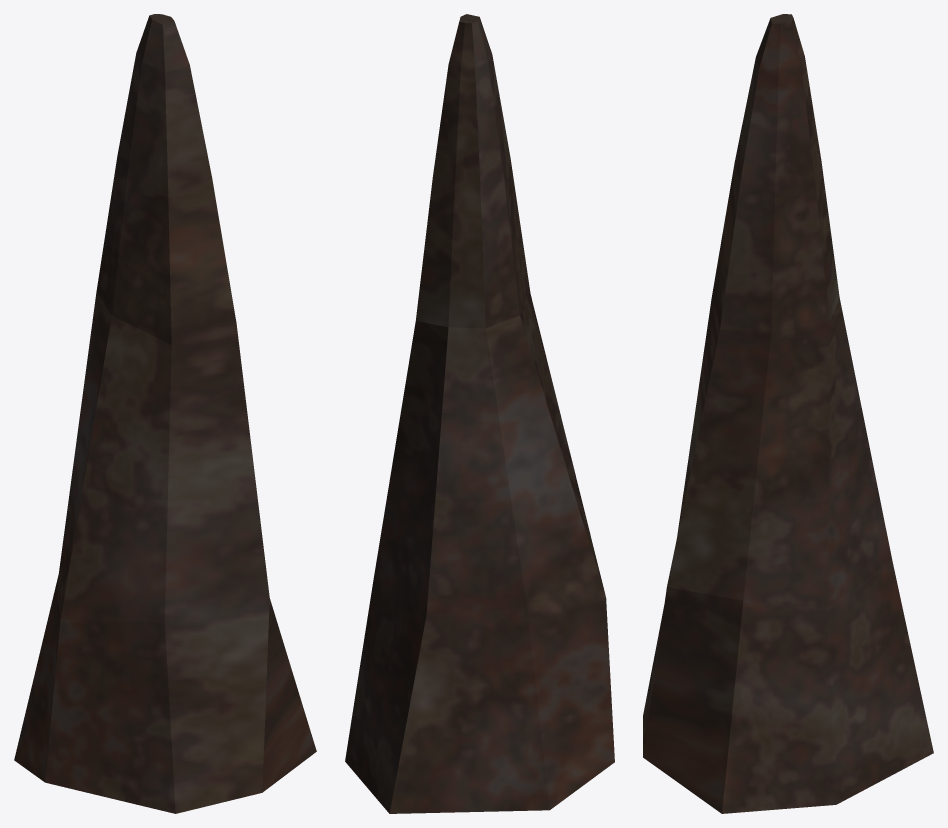
File: rock3.glb
The picture shows the model from 3 angles, left to right: view 1: azimuth 30°, elevation 25°; view 2: azimuth 150°, elevation 25°; view 3: azimuth 270°, elevation 25°; orthographic projection.
Visible parts, largest first — view 1: Cylinder; view 2: Cylinder; view 3: Cylinder.
Boxes of the visible parts, x1=… form: Cylinder: x1=14, y1=14, x2=316, y2=813; Cylinder: x1=345, y1=14, x2=614, y2=813; Cylinder: x1=643, y1=14, x2=933, y2=813.
Bounding box in the file's own units: 3.33 × 9.29 × 3.31.
Materials: 1 (1 with a texture image).
